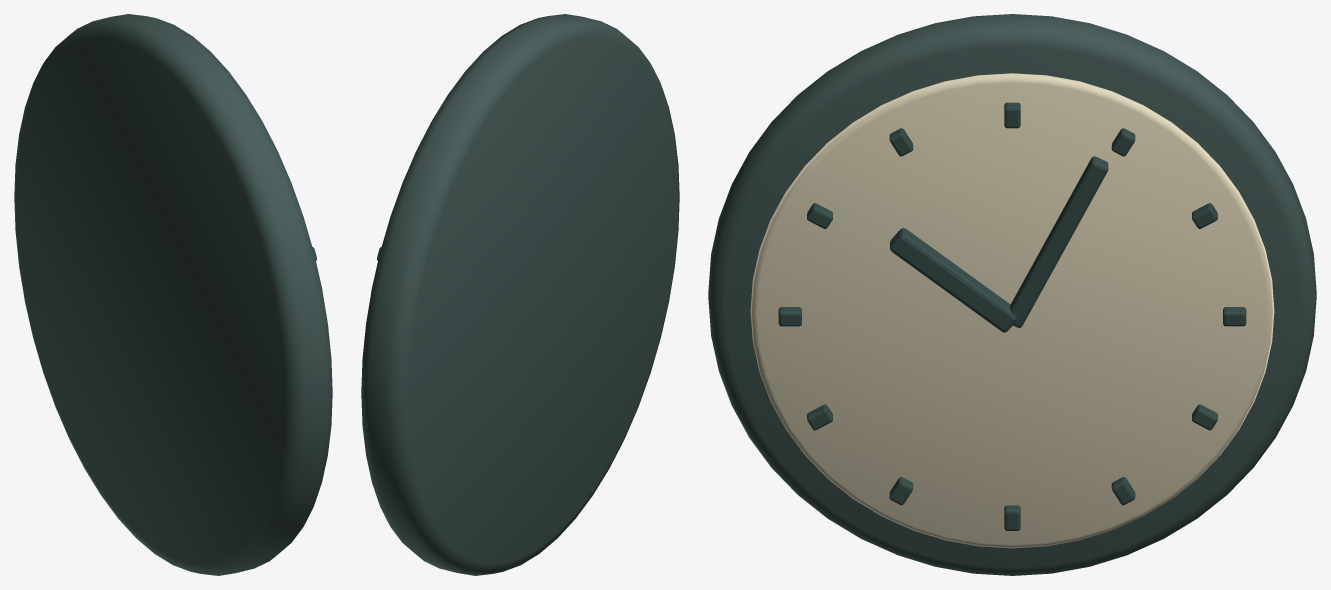
Rendered from SM_Clock.fbx.
The picture shows the model from 3 angles, left to right: view 1: azimuth 30°, elevation 25°; view 2: azimuth 150°, elevation 25°; view 3: azimuth 270°, elevation 25°; orthographic projection. The views are drawn at different scales.
Parts seen in each view (by area): view 1: SM_Clock; view 2: SM_Clock; view 3: SM_Clock.
Boxes of the visible parts, x1=… form: SM_Clock: x1=14, y1=14, x2=332, y2=575; SM_Clock: x1=361, y1=14, x2=679, y2=575; SM_Clock: x1=708, y1=14, x2=1316, y2=575.
Bounding box in the file's own units: 22.5 × 130 × 130.
